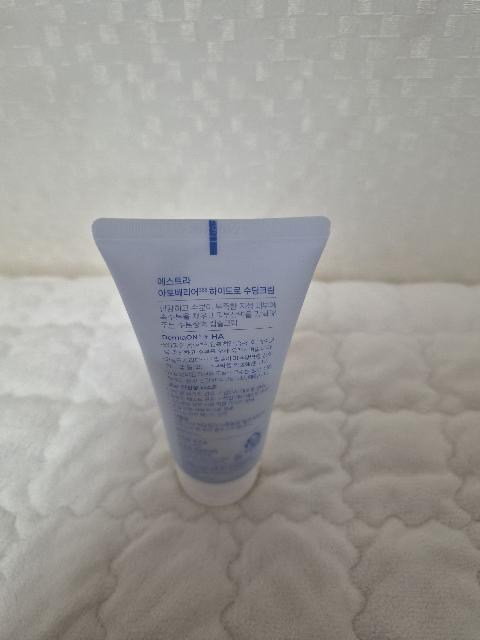handcream: (91, 215, 331, 506)
